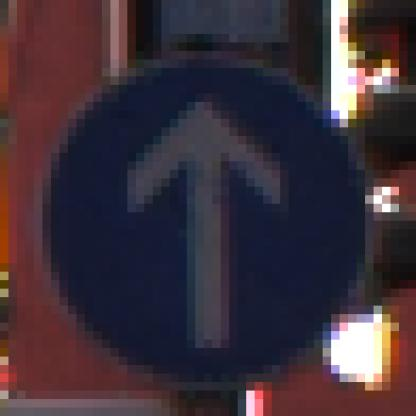AheadOnly: (52, 44, 374, 375)
